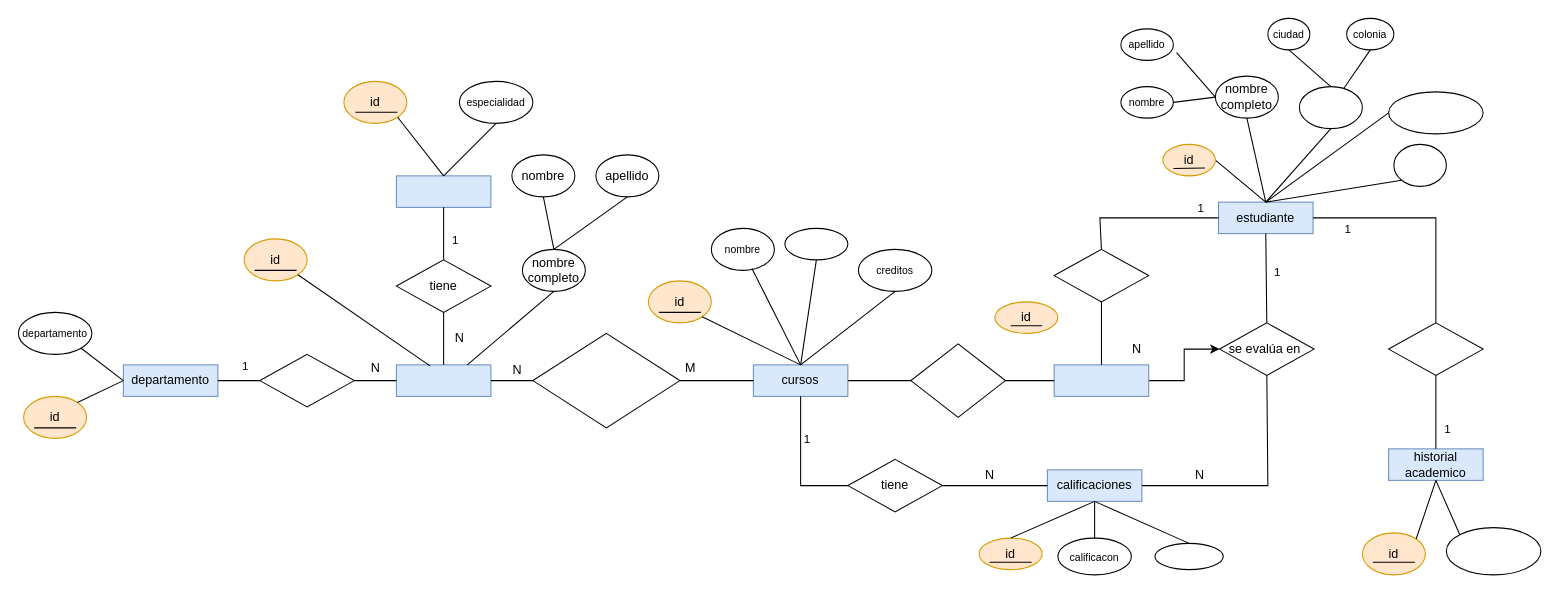
The diagram is 1559 pixels wide and 593 high, and some of its shapes have lost their labels. The shapes that lost their labels are listed below. From the top down, each one's centre as x and y in pixels, then its label:
At [1330,107]: "direccion".
At [1435,112]: "fecha_nacimiento".
At [1419,164]: "telefono".
At [443,191]: "especialidades".
At [816,243]: "horario".
At [1101,275]: "inscribe a un".
At [1435,348]: "registra un".
At [306,380]: "pertenece".
At [443,380]: "profesores".
At [606,380]: "asignacion cursos-profesores".
At [957,380]: "se inscribe en".
At [1101,380]: "inscripciones".
At [1188,556]: "semestre".
At [1493,551]: "materias aprobadas".
